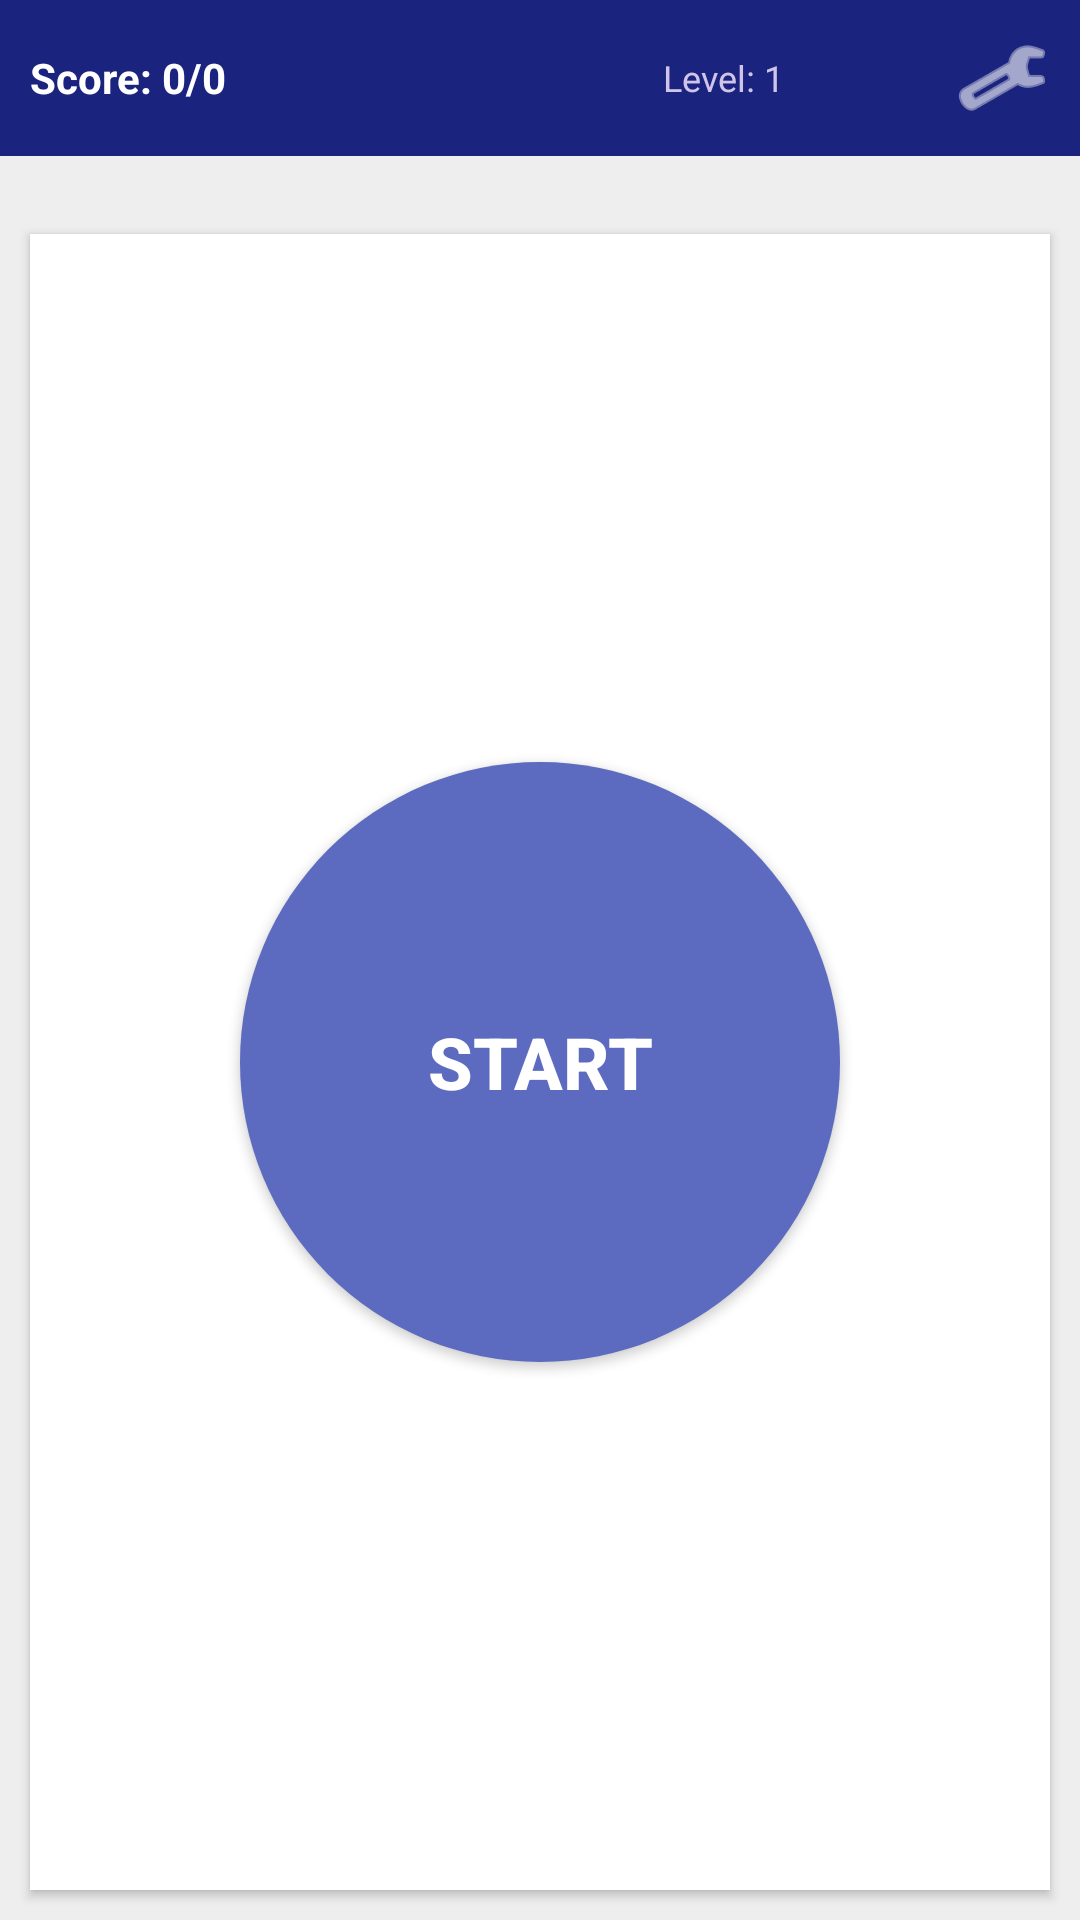

Where icons sit on this 1080 × 1920 app screen, as (x1, y1, x2, y2):
Settings: (959, 45, 1045, 111)
